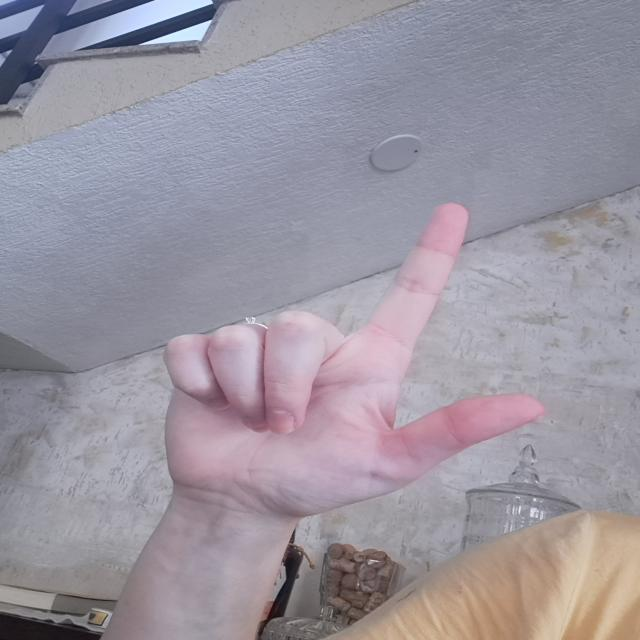L: (149, 196, 541, 514)
